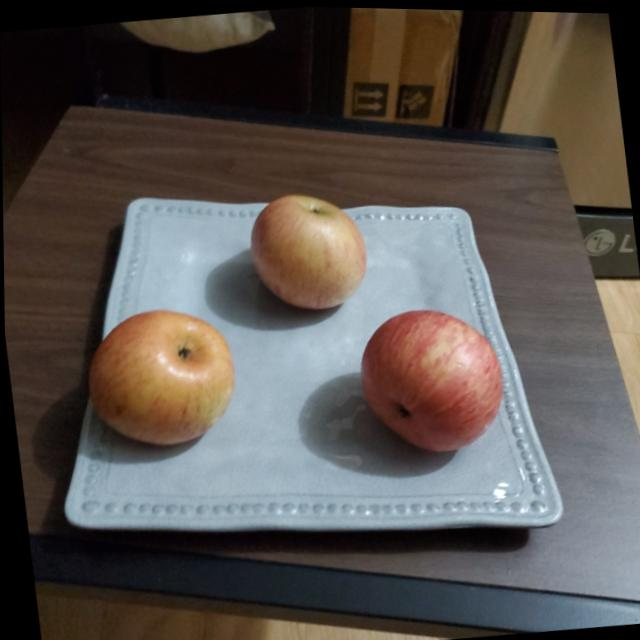apple: (352, 295, 514, 458), (78, 304, 242, 462), (243, 185, 374, 316)
